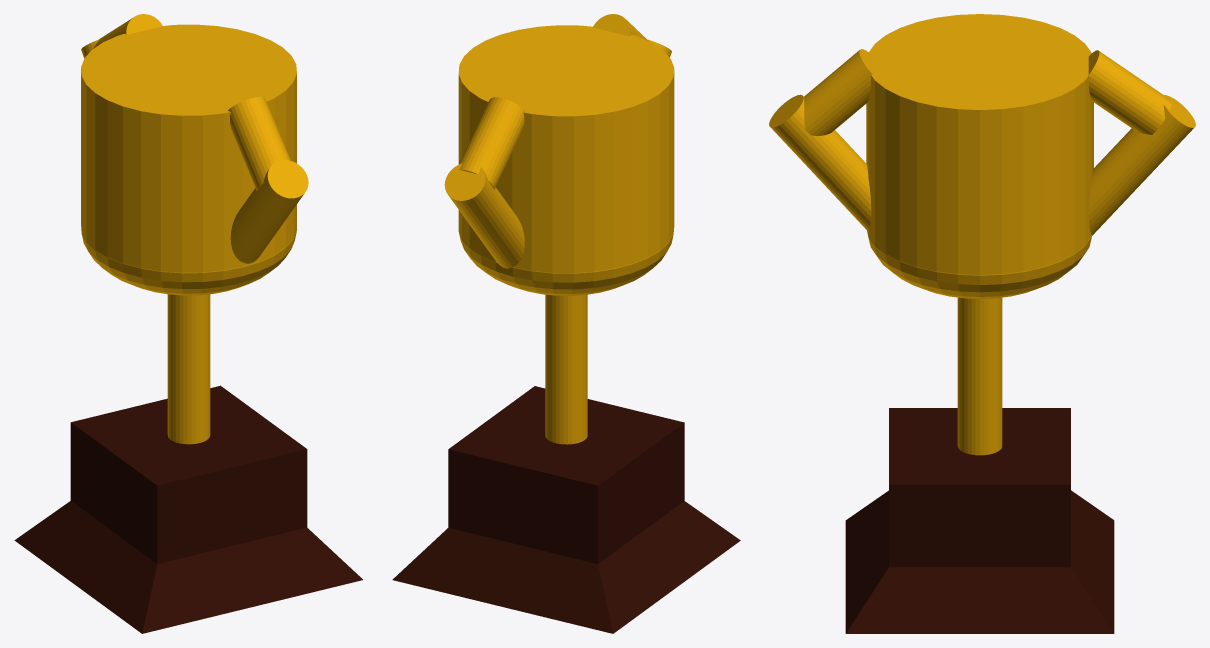
The model's file is Trophy.fbx.
3 renders of one model, left to right at view 1: azimuth 30°, elevation 25°; view 2: azimuth 150°, elevation 25°; view 3: azimuth 270°, elevation 25°, orthographic. The views are drawn at different scales.
Visible parts, largest first — view 1: Cube, Cylinder.001, Cylinder, Cylinder.002, Sphere, Cylinder.005, Cylinder.004; view 2: Cube, Cylinder.001, Cylinder, Cylinder.003, Sphere, Cylinder.004, Cylinder.005; view 3: Cylinder.001, Cube, Cylinder, Cylinder.003, Cylinder.002, Sphere, Cylinder.004, Cylinder.005.
Boxes of the visible parts, x1=… form: Cube: x1=14, y1=385, x2=362, y2=633; Cylinder.001: x1=81, y1=24, x2=296, y2=272; Cylinder: x1=167, y1=294, x2=210, y2=444; Cylinder.002: x1=230, y1=160, x2=308, y2=263; Sphere: x1=81, y1=226, x2=296, y2=295; Cylinder.005: x1=228, y1=97, x2=290, y2=191; Cylinder.004: x1=93, y1=14, x2=162, y2=48; Cube: x1=392, y1=386, x2=740, y2=633; Cylinder.001: x1=458, y1=25, x2=674, y2=272; Cylinder: x1=545, y1=294, x2=587, y2=444; Cylinder.003: x1=444, y1=163, x2=524, y2=268; Sphere: x1=458, y1=231, x2=673, y2=295; Cylinder.004: x1=459, y1=97, x2=525, y2=189; Cylinder.005: x1=593, y1=14, x2=648, y2=41; Cylinder.001: x1=866, y1=14, x2=1093, y2=274; Cube: x1=845, y1=408, x2=1114, y2=633; Cylinder: x1=957, y1=297, x2=1002, y2=455; Cylinder.003: x1=1089, y1=95, x2=1195, y2=235; Cylinder.002: x1=769, y1=94, x2=871, y2=230; Sphere: x1=867, y1=231, x2=1091, y2=298; Cylinder.004: x1=1088, y1=50, x2=1171, y2=134; Cylinder.005: x1=804, y1=49, x2=872, y2=135.
Bounding box in the file's own units: 591 × 1282 × 938.
